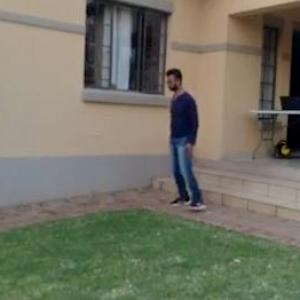follow: (157, 67, 197, 206)
